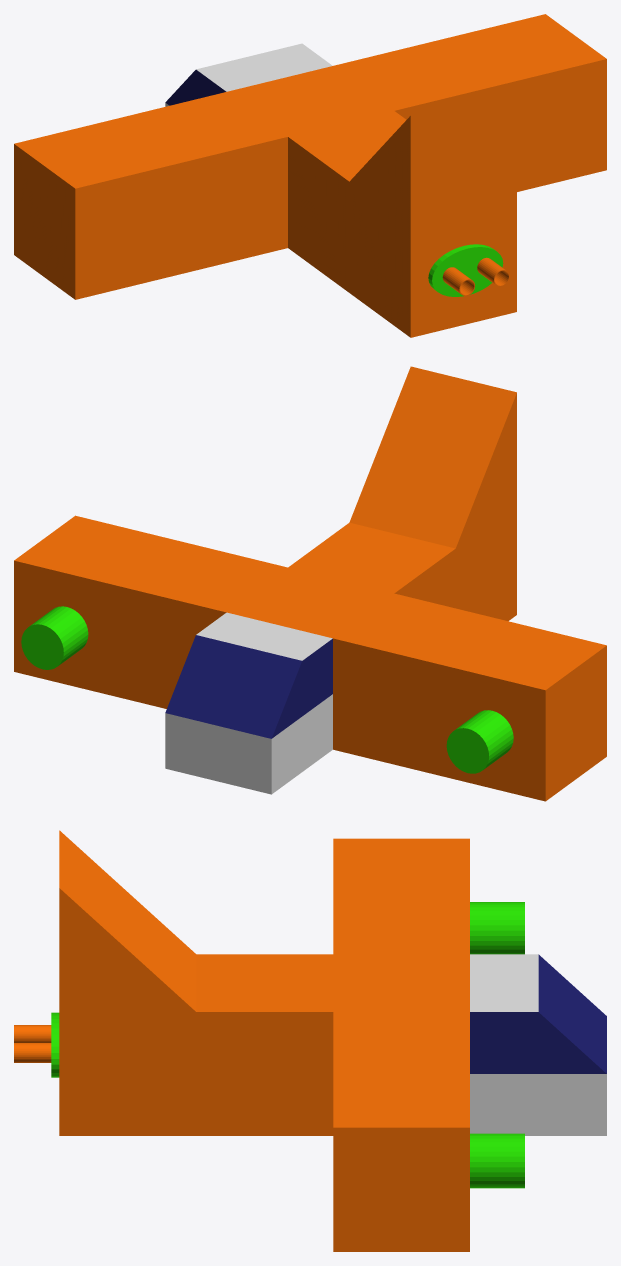
File: ProtoBlockShip.fbx
3 views of the same model, one above another, from view 1: azimuth 30°, elevation 25°; view 2: azimuth 150°, elevation 25°; view 3: azimuth 270°, elevation 25° (orthographic). The views are drawn at different scales.
Parts seen in each view (by area): view 1: Cube.007, Cube.005, Cube.002, Cube, Cube.008, Cube.001, Cube.004, Cube.006, Cockpit, Thruster; view 2: Cockpit, Cube.007, Cube.008, Cube.005, Cube.002, Cube.004, Cube.001, Cube.006, Cube, Gun.R, Gun.L; view 3: Cube.001, Cube.002, Cockpit, Cube, Cube.008, Cube.005, Cube.007, Cube.004, Cube.006, Gun.R, Gun.L, Thruster.
Part boxes in pixels (<box>): Cube.007: <box>14,118,181,299</box>; Cube.005: <box>120,92,287,273</box>; Cube.002: <box>440,14,606,191</box>; Cube: <box>349,182,516,337</box>; Cube.008: <box>349,89,516,226</box>; Cube.001: <box>288,111,406,292</box>; Cube.004: <box>333,40,500,119</box>; Cube.006: <box>227,66,393,136</box>; Cockpit: <box>165,43,332,106</box>; Thruster: <box>428,244,509,296</box>; Cockpit: <box>165,612,332,794</box>; Cube.007: <box>439,619,606,801</box>; Cube.008: <box>349,366,516,548</box>; Cube.005: <box>333,593,500,775</box>; Cube.002: <box>14,515,181,697</box>; Cube.004: <box>120,541,287,708</box>; Cube.001: <box>288,522,455,608</box>; Cube.006: <box>227,567,393,638</box>; Cube: <box>455,504,516,621</box>; Gun.R: <box>21,606,88,669</box>; Gun.L: <box>446,710,513,773</box>; Cube.001: <box>196,954,333,1135</box>; Cube.002: <box>333,1070,469,1251</box>; Cockpit: <box>470,954,606,1135</box>; Cube: <box>59,1012,196,1135</box>; Cube.008: <box>59,830,196,1011</box>; Cube.005: <box>333,896,469,954</box>; Cube.007: <box>333,838,469,896</box>; Cube.004: <box>333,1012,469,1069</box>; Cube.006: <box>333,954,469,1011</box>; Gun.R: <box>470,1133,524,1188</box>; Gun.L: <box>470,902,524,954</box>; Thruster: <box>14,1012,59,1077</box>.
Bounding box in the file's own units: 1000 × 400 × 866.
